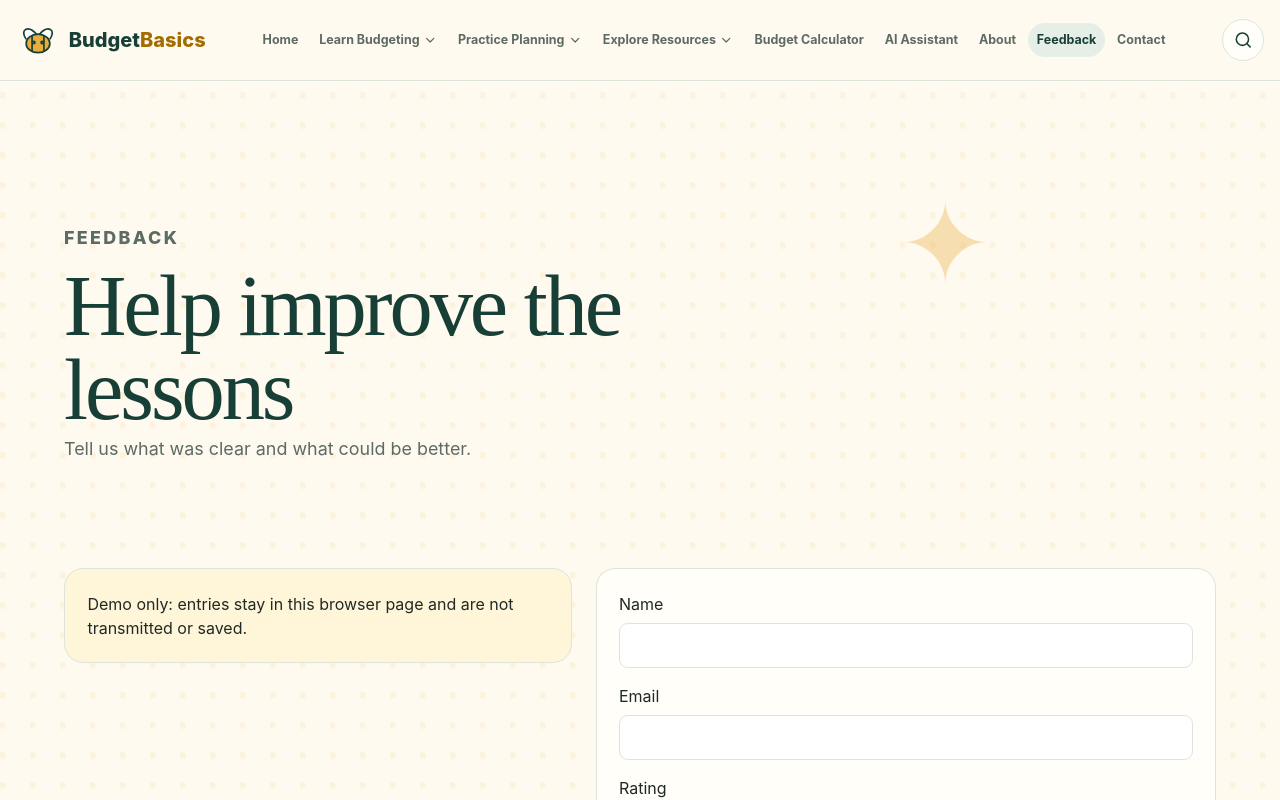
Test: discovery and support pages › clears stale success when /feedback is edited and resubmitted invalid
Type "Student" into the field labelled "Name".
click(906, 645); type("Student")  # box [619, 623, 1193, 668]
Type "student@example.com" into the field labelled "Email".
click(906, 737); type("student@example.com")  # box [619, 715, 1193, 760]
(page scrolled)
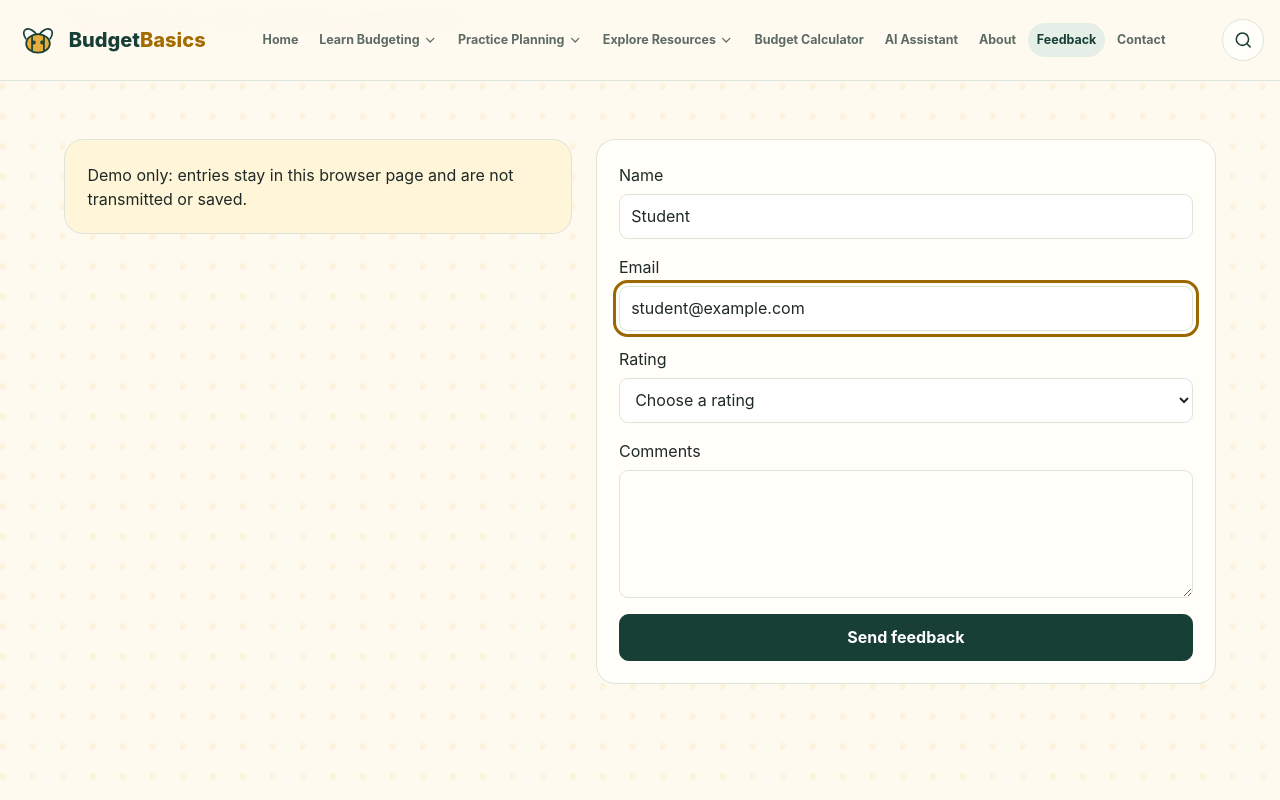
Select "5" in the dropdown labelled "Rating" at [906, 400], box [619, 378, 1193, 423]
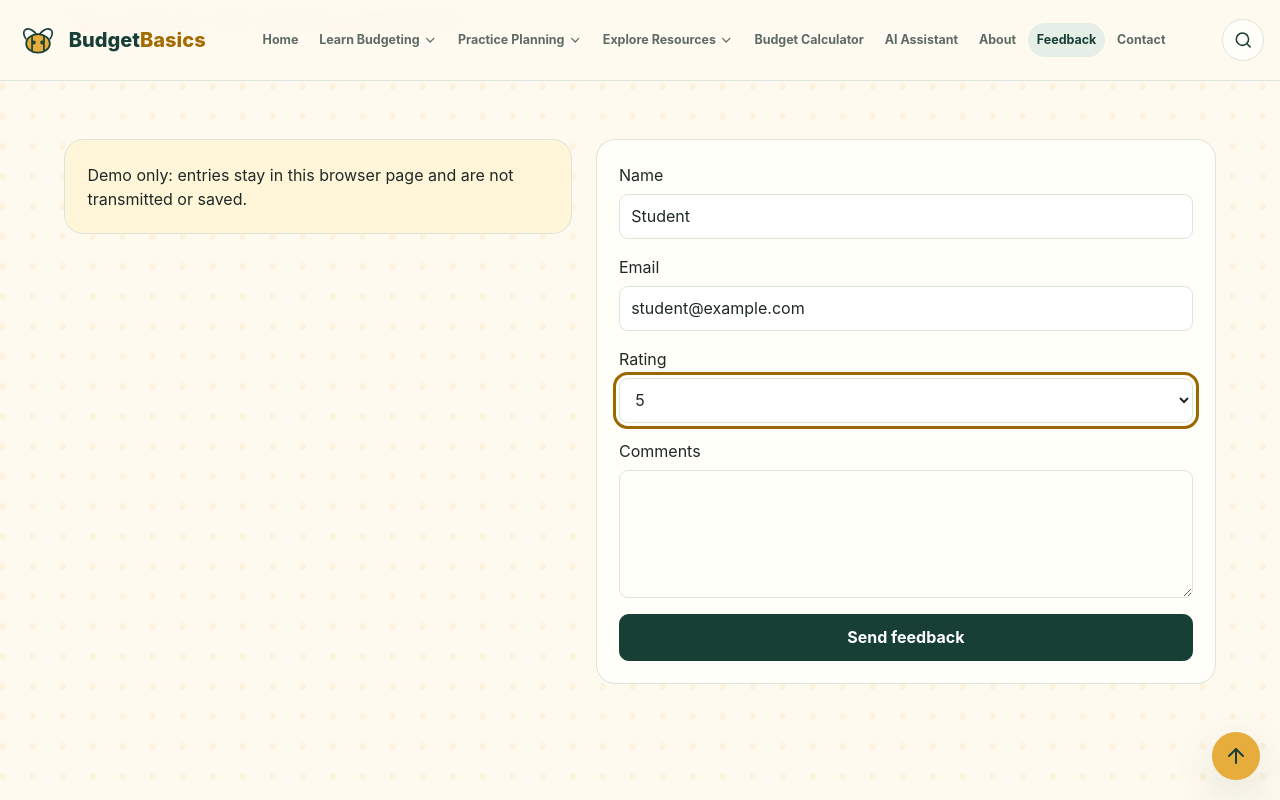
Type "Helpful message" into the text box labelled "Comments".
click(906, 534); type("Helpful message")  # box [619, 470, 1193, 598]
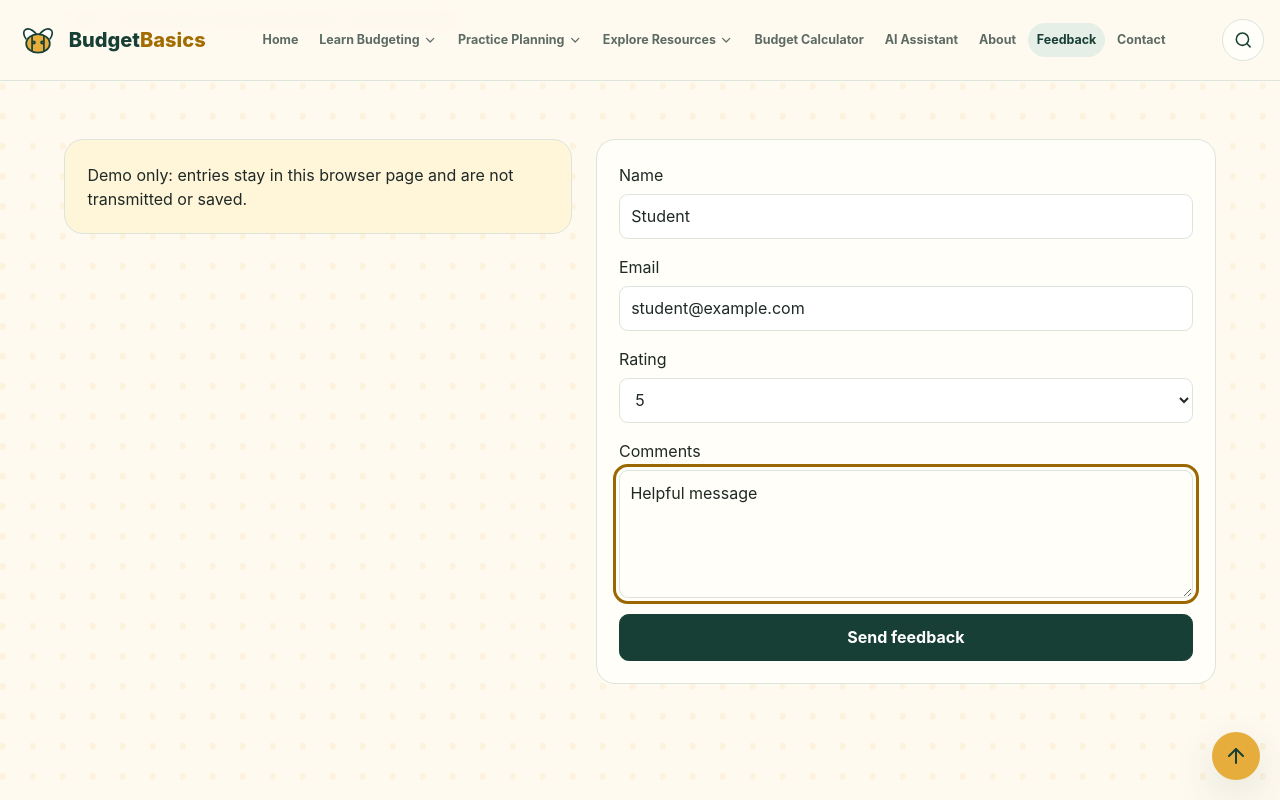
Click the button "Send feedback".
click(906, 637)  # box [619, 614, 1193, 661]
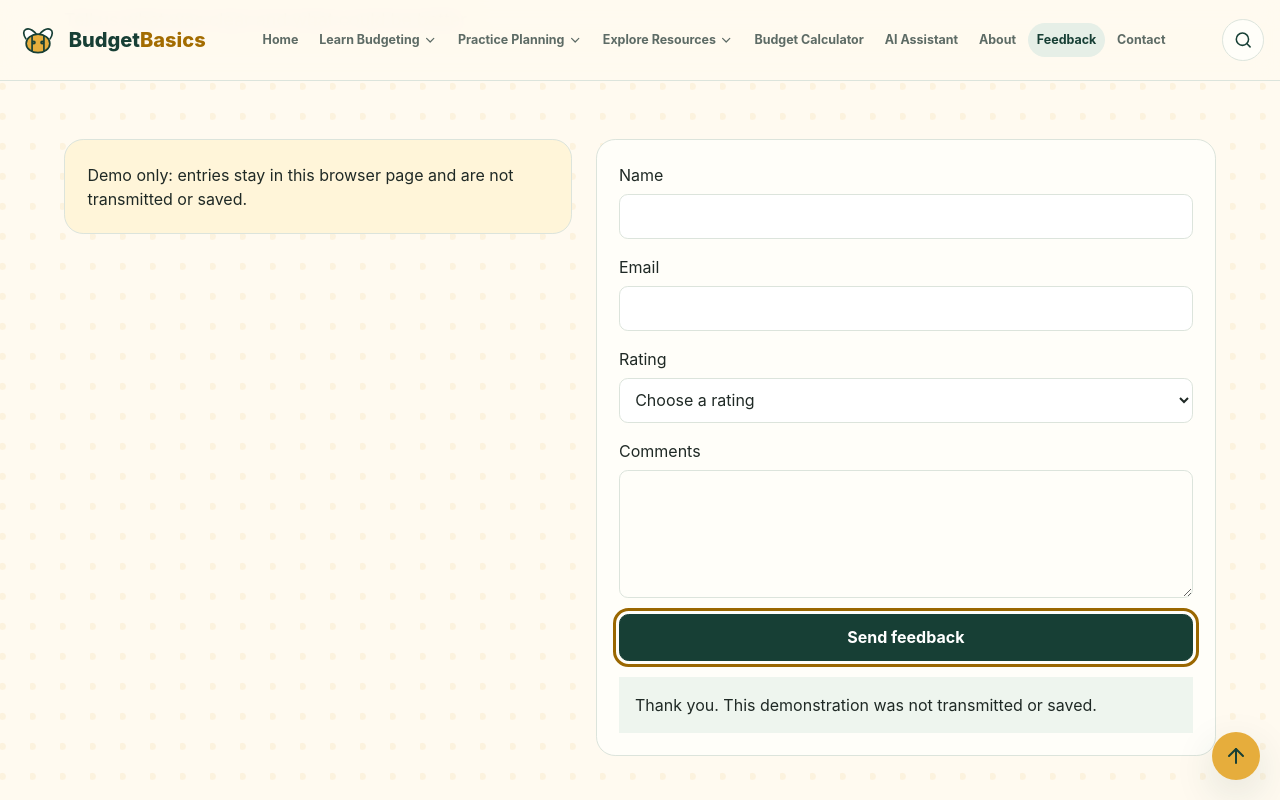
Result: the text "Thank you. This demonstration was not transmitted or saved." is shown at [619, 677, 1193, 733]
Type "Changed" into the field labelled "Name".
click(906, 216); type("Changed")  # box [619, 194, 1193, 239]
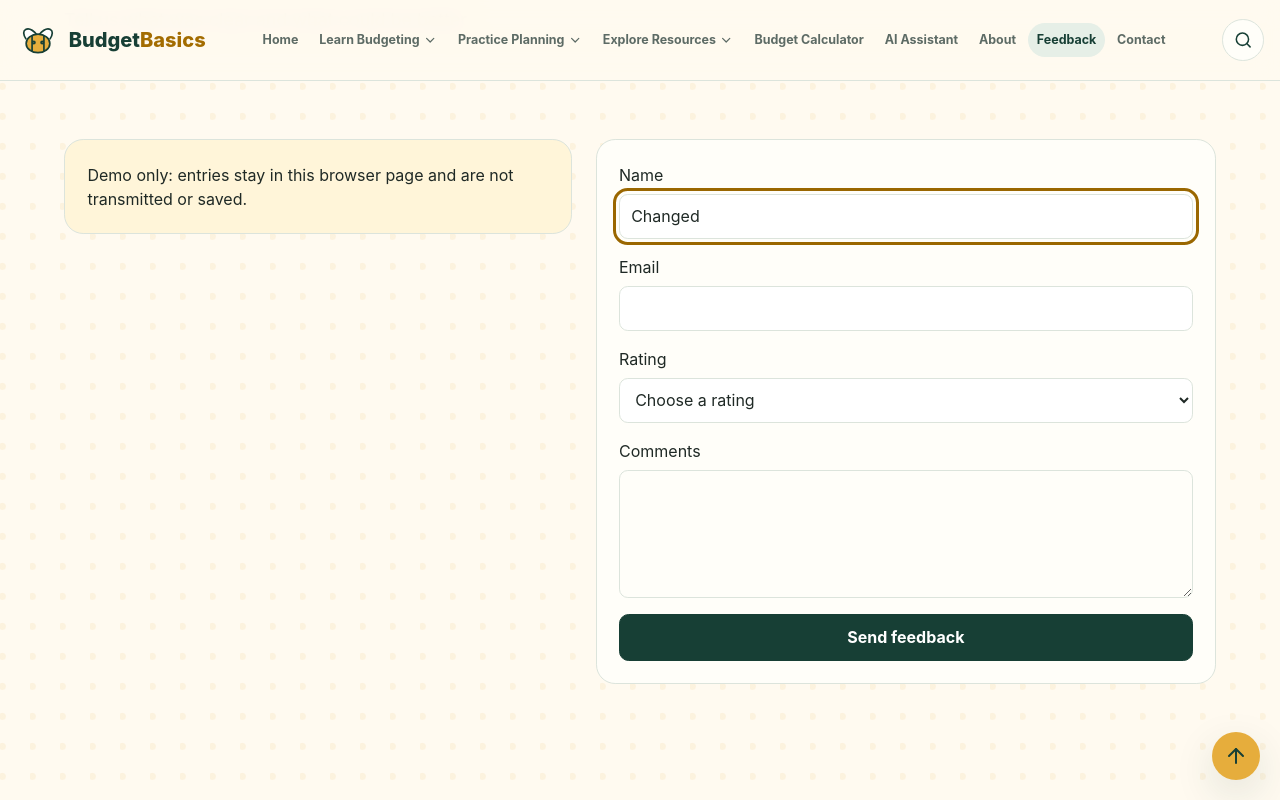
Result: the text "Thank you. This demonstration was not transmitted or saved." is gone
Click the button "Send feedback".
click(906, 637)  # box [619, 614, 1193, 661]
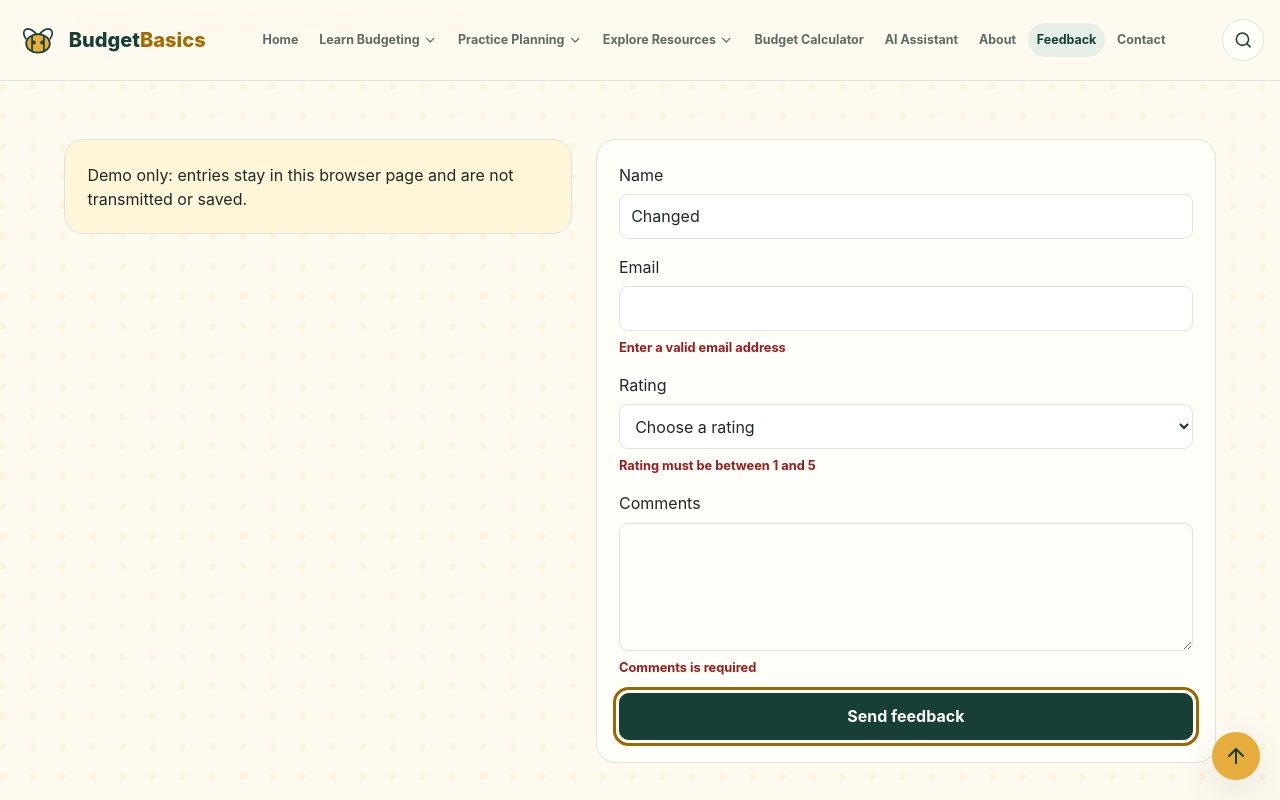
Expected: the text "Thank you. This demonstration was not transmitted or saved." is not shown
Result: the message "Enter a valid email address" is shown at [619, 340, 786, 355]
